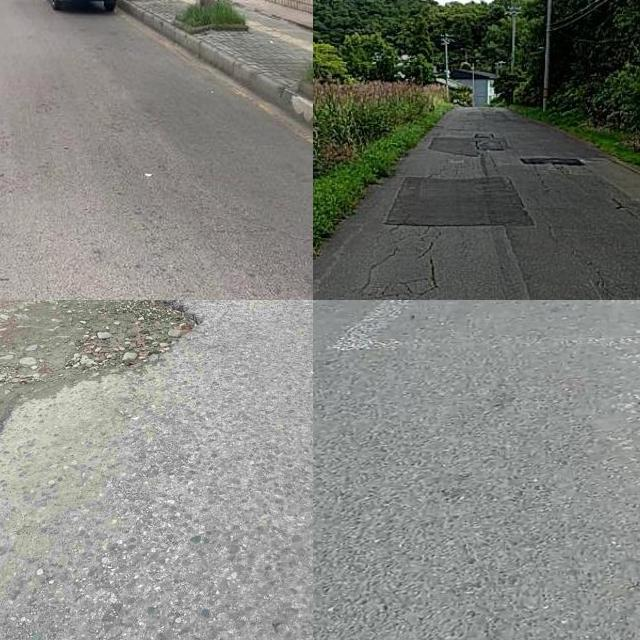Pinggir: (0, 300, 215, 447)
Sambungan: (383, 173, 528, 223), (426, 133, 480, 157)
